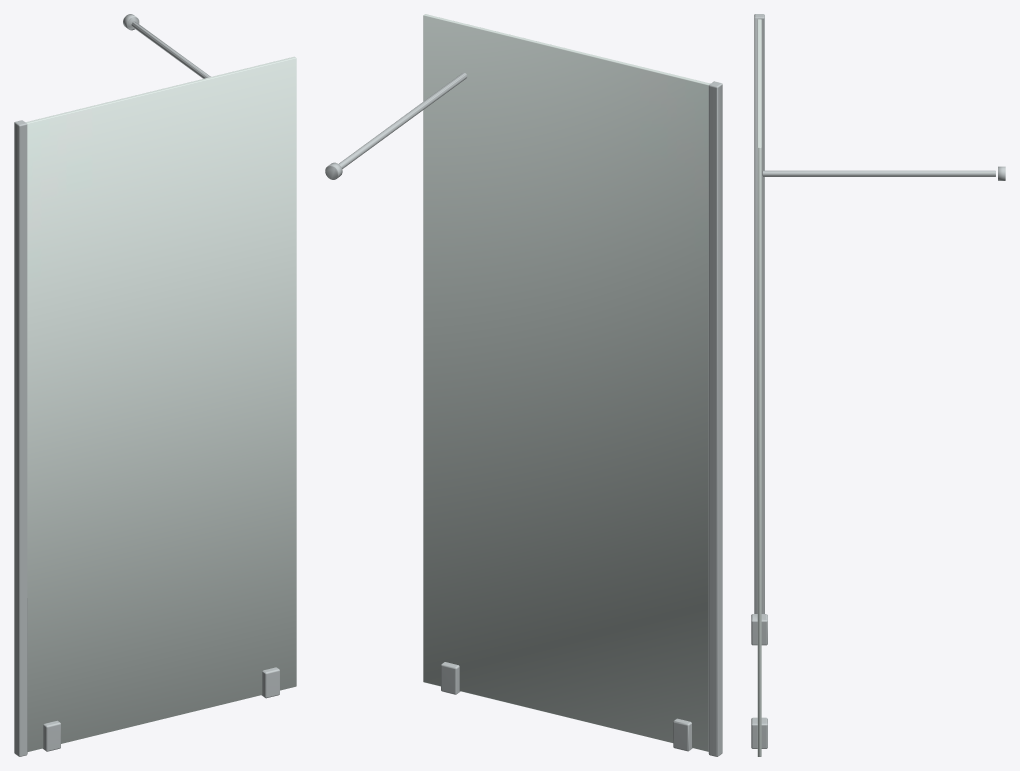
3 views of the same model, side by side, from view 1: azimuth 30°, elevation 25°; view 2: azimuth 150°, elevation 25°; view 3: azimuth 270°, elevation 25° (orthographic). The views are drawn at different scales.
Parts seen in each view (by area): view 1: Screen | frameless tempered glass, Brace | wall rosette; view 2: Screen | frameless tempered glass, Brace | wall rosette; view 3: Brace | wall rosette, Screen | frameless tempered glass.
Boxes of the visible parts, x1,y1,x2,y2 form: Screen | frameless tempered glass: (26, 56, 296, 751); Brace | wall rosette: (14, 14, 279, 756); Screen | frameless tempered glass: (423, 14, 710, 751); Brace | wall rosette: (325, 72, 722, 756); Brace | wall rosette: (751, 14, 1005, 748); Screen | frameless tempered glass: (757, 19, 761, 756).
Bounding box in the file's own units: 0.9184 × 1.99 × 0.747.
2 materials, 2 textured.
